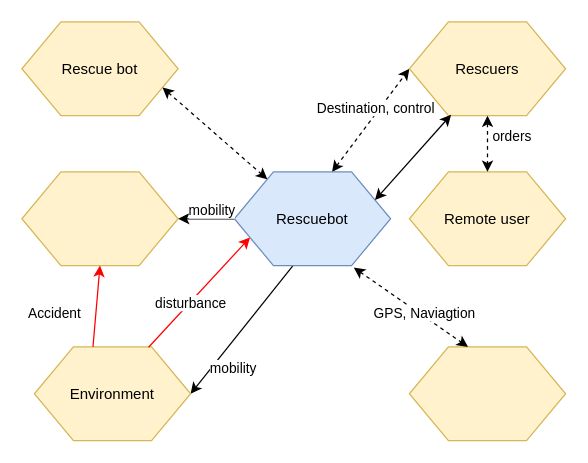
This 588x463 diagram has some shape labels left out. Each missing label, with the box of its shape:
Satelite: (408, 346, 566, 441)
Victim: (21, 171, 178, 266)
